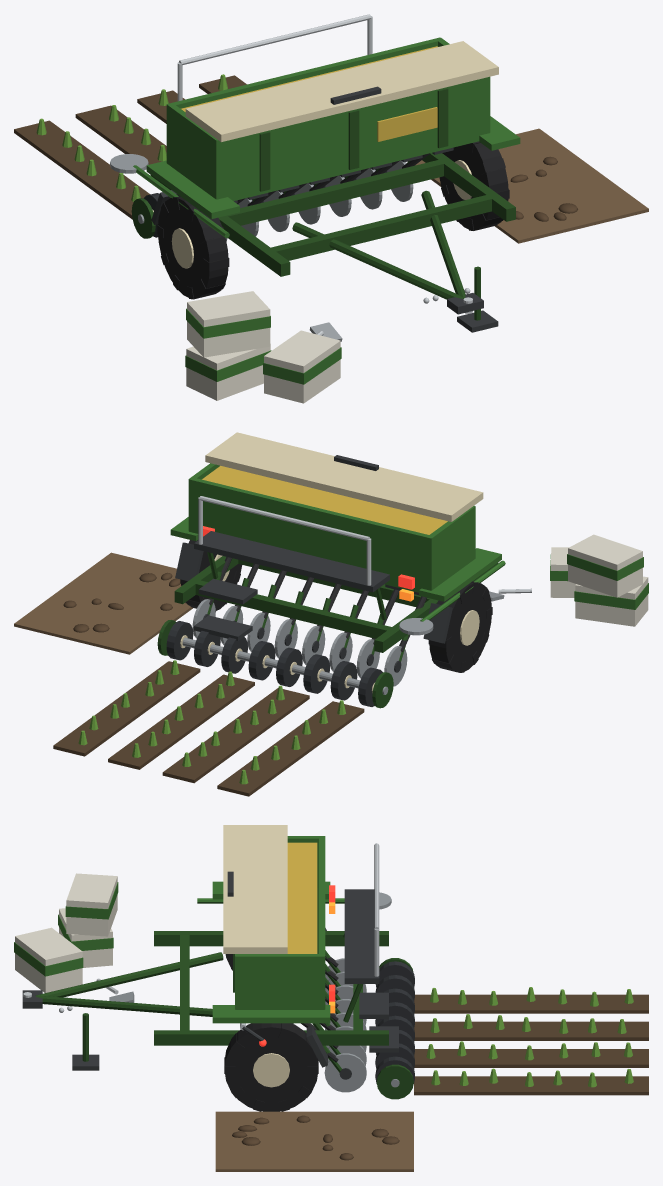
File: seed_drill.glb
3 views of the same model, one above another, from view 1: azimuth 30°, elevation 25°; view 2: azimuth 150°, elevation 25°; view 3: azimuth 270°, elevation 25° (orthographic). The views are drawn at different scales.
Parts seen in each view (by area): view 1: DrillBody, FieldProps, PressWheelUnit; view 2: DrillBody, FieldProps, PressWheelUnit; view 3: DrillBody, FieldProps, PressWheelUnit.
Boxes of the visible parts, x1=… form: DrillBody: x1=110, y1=14, x2=520, y2=332; FieldProps: x1=14, y1=74, x2=648, y2=403; PressWheelUnit: x1=131, y1=169, x2=386, y2=238; DrillBody: x1=170, y1=432, x2=505, y2=686; FieldProps: x1=14, y1=534, x2=648, y2=796; PressWheelUnit: x1=157, y1=620, x2=393, y2=708; DrillBody: x1=22, y1=825, x2=398, y2=1111; FieldProps: x1=14, y1=873, x2=648, y2=1171; PressWheelUnit: x1=375, y1=958, x2=414, y2=1099.
Bounding box in the file's own units: 4.44 × 1.47 × 5.13.
